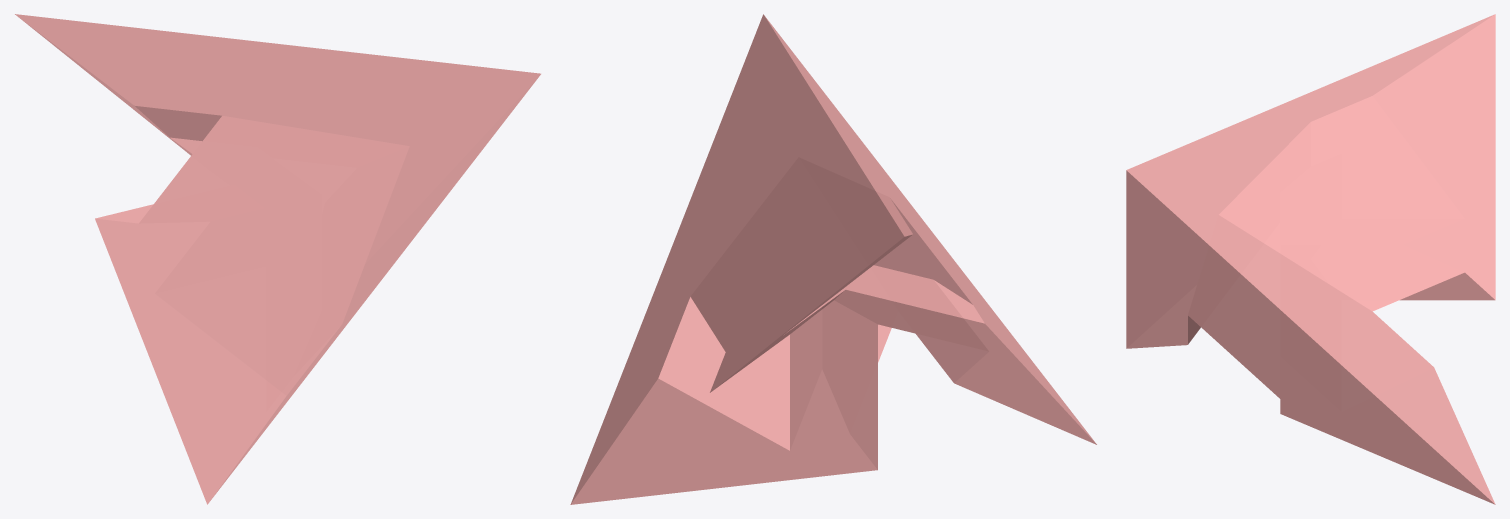
The model's file is HeptagonalDodecahedron_A.obj.
3 views of the same model, side by side, from view 1: azimuth 30°, elevation 25°; view 2: azimuth 150°, elevation 25°; view 3: azimuth 270°, elevation 25° (orthographic). The views are drawn at different scales.
Bounding box in the file's own units: 12 × 12 × 12.
